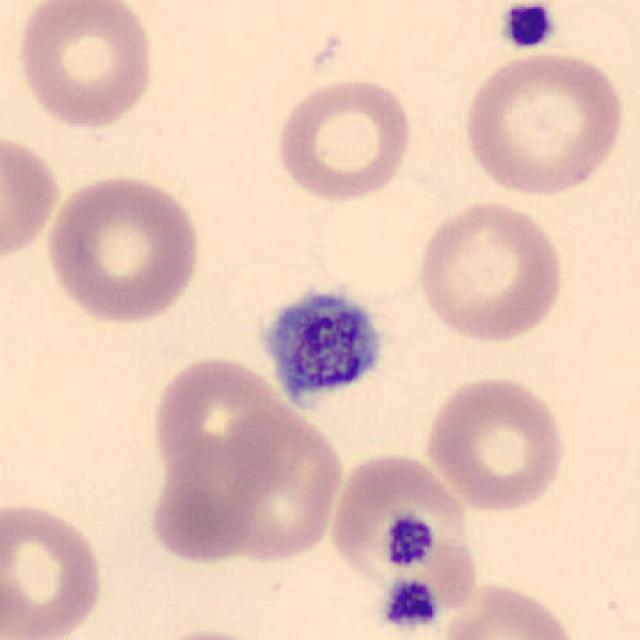Platelets: (255, 279, 390, 416), (379, 576, 441, 634), (496, 0, 560, 53), (382, 513, 436, 570)
RBC: (41, 169, 204, 328), (458, 48, 628, 199), (412, 196, 569, 346), (206, 402, 347, 566), (147, 351, 297, 499), (336, 454, 484, 601), (420, 372, 570, 515), (11, 0, 160, 132), (270, 74, 416, 205), (0, 497, 108, 640), (432, 576, 583, 640), (0, 127, 62, 266), (139, 626, 281, 640)
